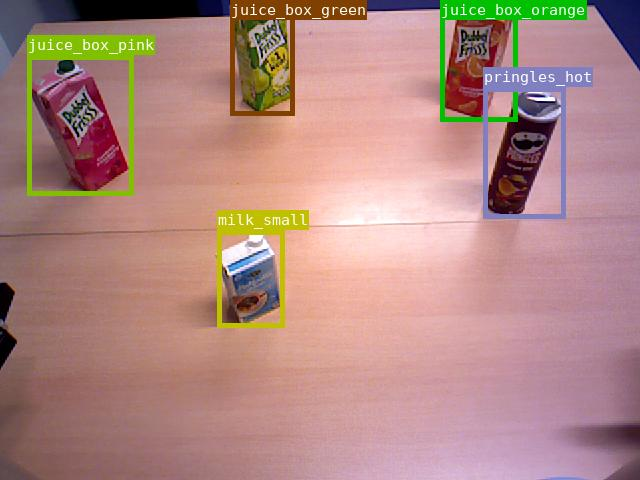juice_box_green: (230, 0, 294, 115)
juice_box_orange: (440, 0, 517, 121)
juice_box_pink: (27, 55, 133, 195)
milk_small: (217, 230, 284, 327)
pringles_hot: (483, 87, 565, 218)
